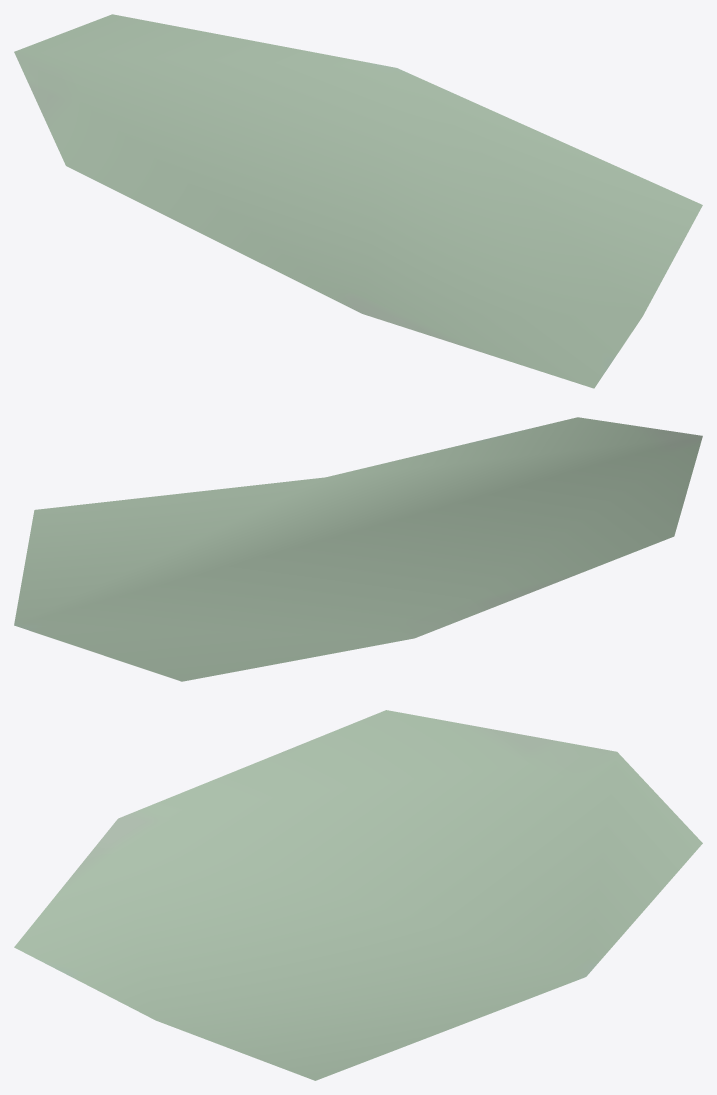
The model's file is TROLLHOLE02_HOLECAP98.fbx.
3 views of the same model, one above another, from view 1: azimuth 30°, elevation 25°; view 2: azimuth 150°, elevation 25°; view 3: azimuth 270°, elevation 25° (orthographic). The views are drawn at different scales.
Parts seen in each view (by area): view 1: TROLLHOLE02_HOLECAP98; view 2: TROLLHOLE02_HOLECAP98; view 3: TROLLHOLE02_HOLECAP98.
Boxes of the visible parts, bbox=[...] form: TROLLHOLE02_HOLECAP98: bbox=[14, 14, 702, 388]; TROLLHOLE02_HOLECAP98: bbox=[14, 417, 702, 681]; TROLLHOLE02_HOLECAP98: bbox=[14, 710, 702, 1080].
Size of the model in its own units: 26344 by 6644 by 31594.
1 material, 1 textured.
